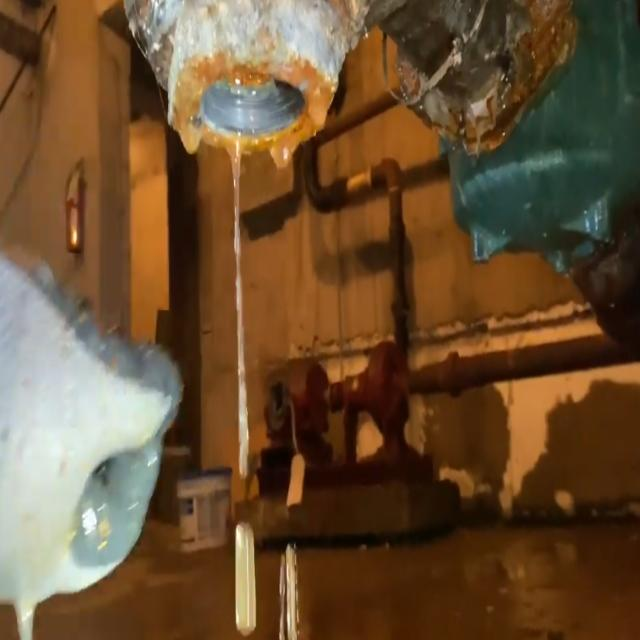leak: (231, 140, 249, 478)
